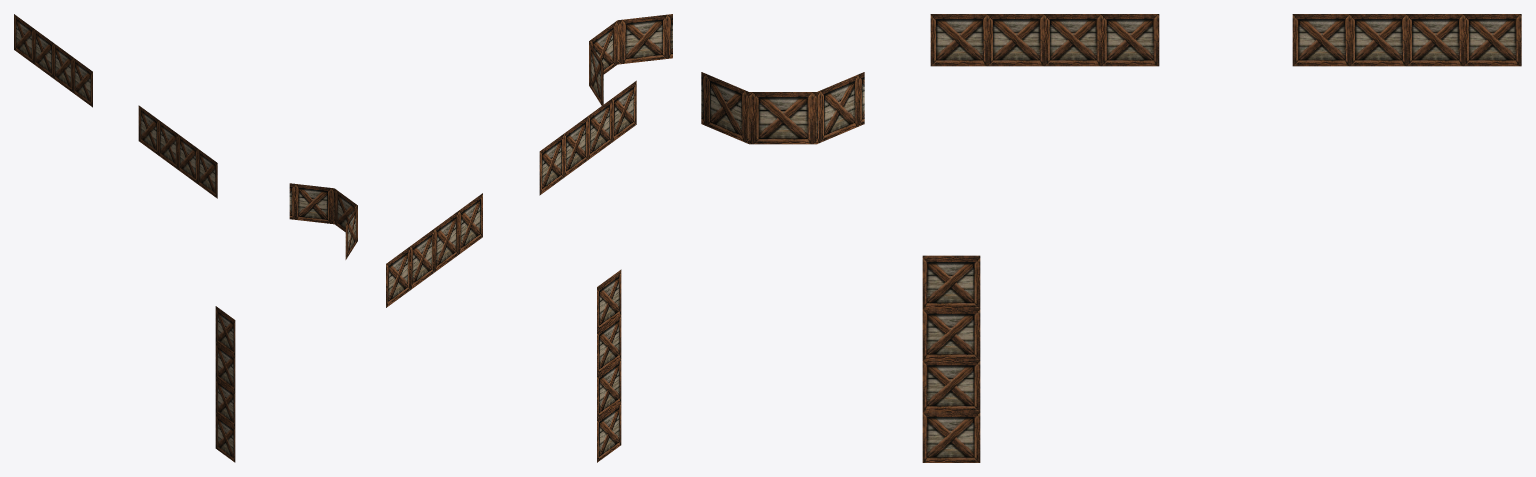
The model's file is LAKETOWN_EXTERIOR_PS_LT_PANELS2866.fbx.
3 renders of one model, left to right at view 1: azimuth 30°, elevation 25°; view 2: azimuth 150°, elevation 25°; view 3: azimuth 270°, elevation 25°, orthographic. The views are drawn at different scales.
Visible parts, largest first — view 1: LAKETOWN_EXTERIOR_PS_LT_PANELS2866; view 2: LAKETOWN_EXTERIOR_PS_LT_PANELS2866; view 3: LAKETOWN_EXTERIOR_PS_LT_PANELS2866.
Part boxes in pixels (bbox=[...]): LAKETOWN_EXTERIOR_PS_LT_PANELS2866: bbox=[14, 14, 357, 462]; LAKETOWN_EXTERIOR_PS_LT_PANELS2866: bbox=[386, 14, 672, 462]; LAKETOWN_EXTERIOR_PS_LT_PANELS2866: bbox=[701, 14, 1521, 462].
Bounding box in the file's own units: 23196 × 85955 × 145769.
Materials: 1 (1 with a texture image).
